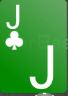Clover: (4, 31, 23, 51)
